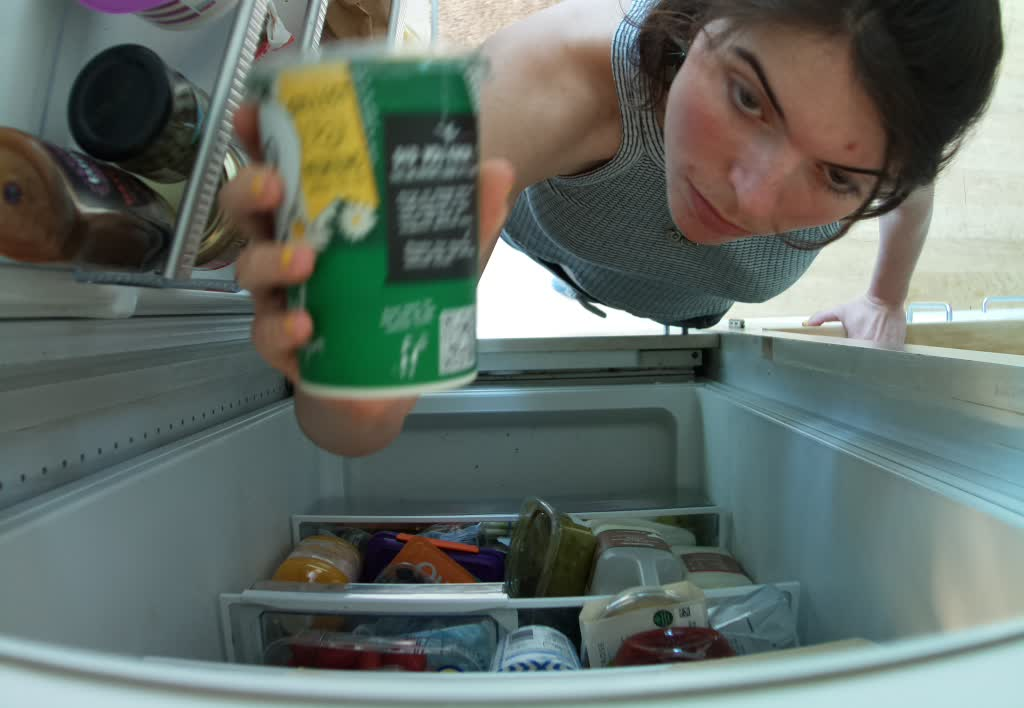yogurt: (238, 36, 498, 403)
